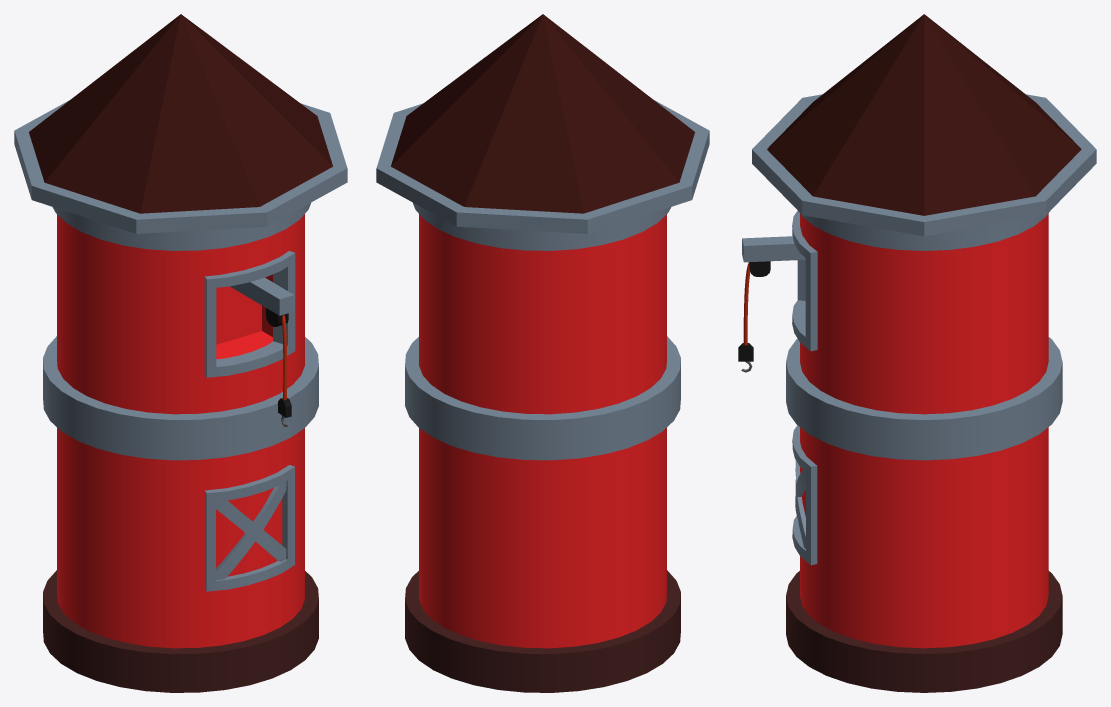
Rendered from FarmTop_l.fbx.
3 views of the same model, side by side, from view 1: azimuth 30°, elevation 25°; view 2: azimuth 150°, elevation 25°; view 3: azimuth 270°, elevation 25° (orthographic).
Visible parts, largest first — view 1: Cube.022, Circle.004; view 2: Cube.022; view 3: Cube.022, Circle.004.
Part boxes in pixels (x1,y1,x2,y2): Cube.022: (14,14,347,692); Circle.004: (230,277,294,426); Cube.022: (376,14,709,692); Cube.022: (752,14,1096,692); Circle.004: (738,236,805,372).
Bounding box in the file's own units: 253 × 263 × 502.
